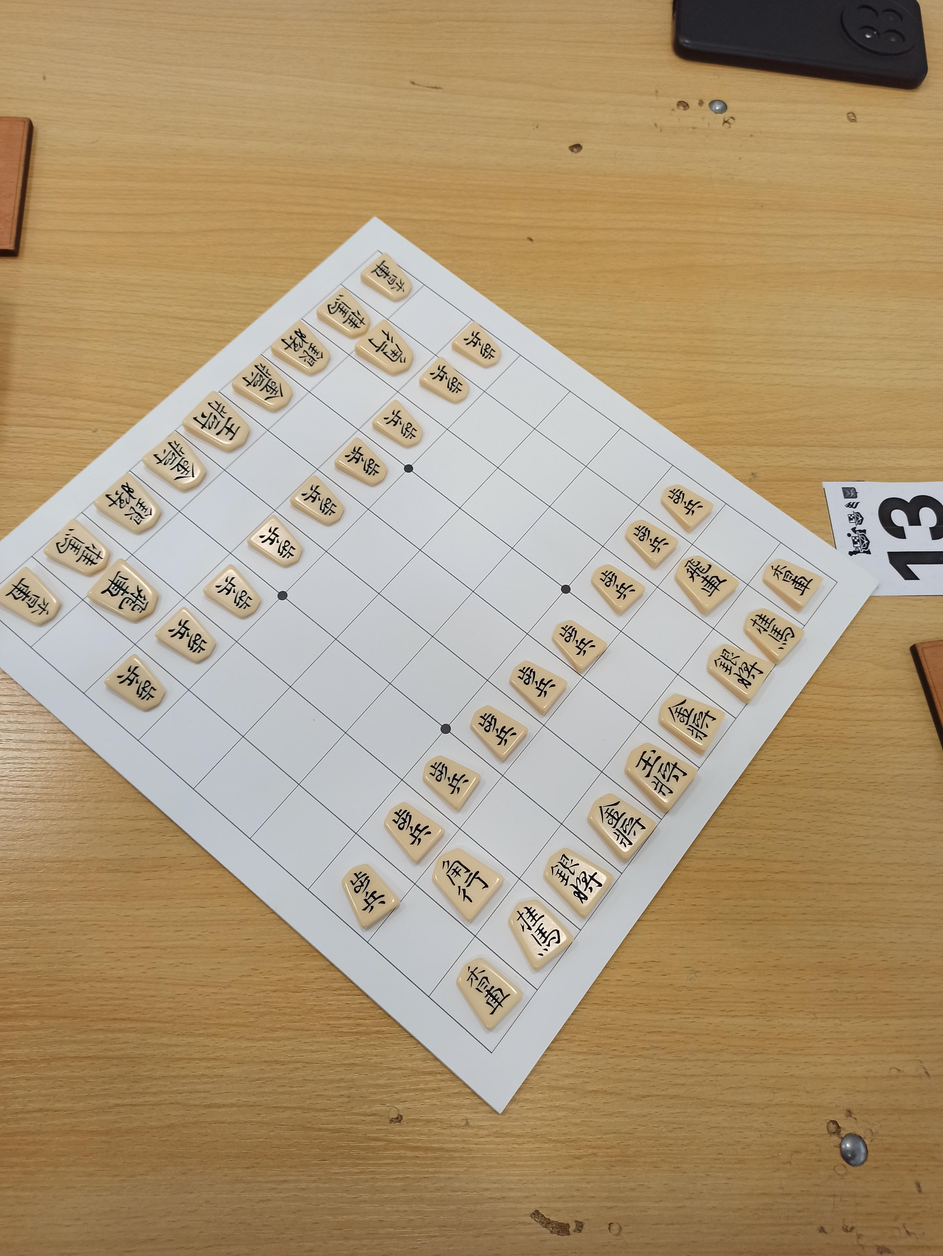board: (0, 249, 838, 1053)
